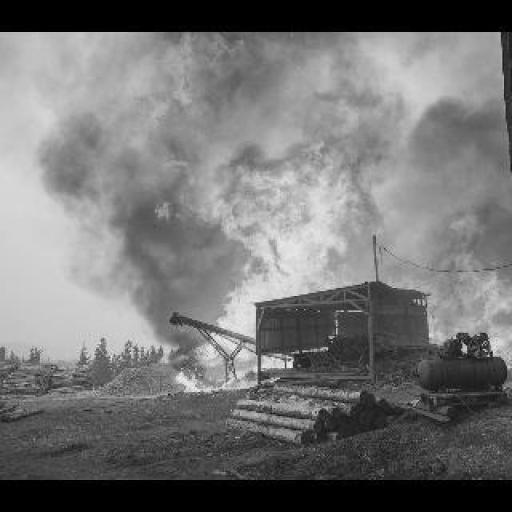smoke: (136, 139, 373, 363), (14, 38, 152, 320), (306, 35, 502, 189), (384, 192, 510, 363), (128, 34, 250, 144), (176, 368, 256, 387)
